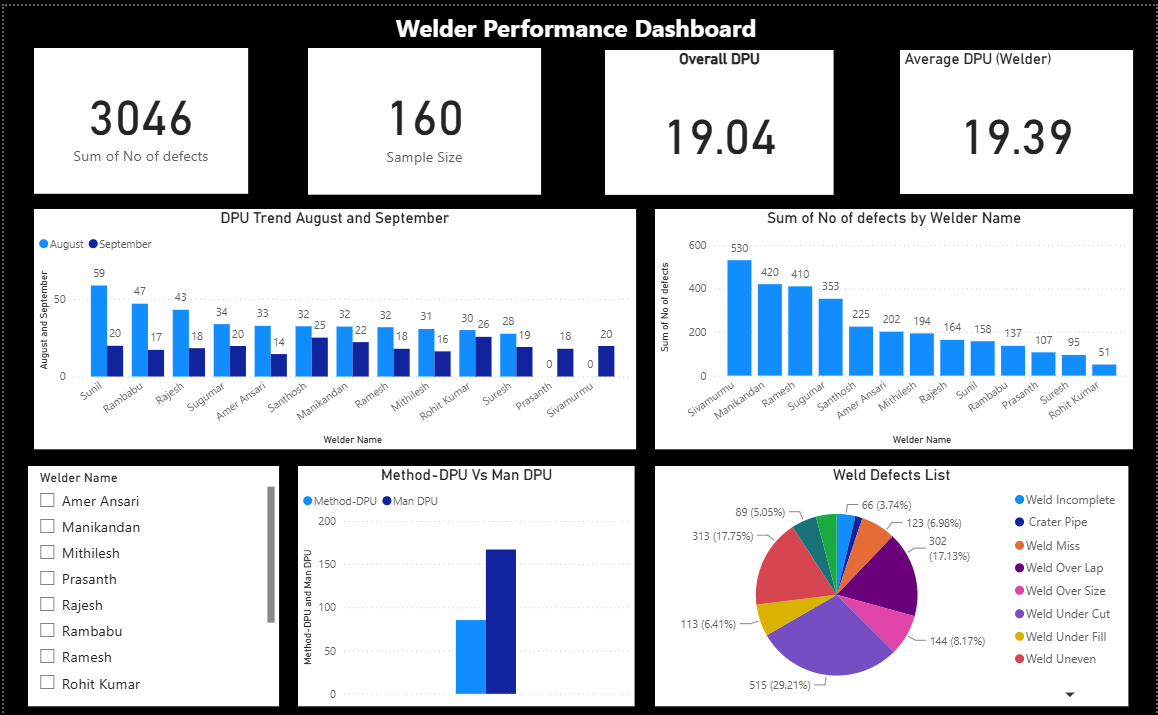

What the dashboard file says about the page in this screenshot:
{"tool":"powerbi","page":{"name":"Page 1","canvas":[1280,800],"ordinal":0},"visuals":[{"type":"textbox","box":[271.2,0,736.2,60],"z":0},{"type":"card","fields":{"Values":["Sum(September.No of defects)"]},"box":[33.3,46.7,237.8,162.2],"z":1000},{"type":"card","fields":{"Values":["Sum(September.No of bucket)"]},"box":[337.8,46.7,258.9,163.3],"z":2000},{"type":"card","title":"Overall DPU ","fields":{"Values":["September.Gross _DPU"]},"box":[667.8,48.9,254.4,161.1],"z":3000},{"type":"card","title":"Average DPU (Welder)","fields":{"Values":["Avg(September.Overall DPU)"]},"box":[995.6,48.9,258.9,160],"z":6000},{"type":"clusteredColumnChart","title":"DPU Trend August and September","fields":{"Category":["Analysis.Welder Name"],"Y":["Sum(Analysis.Overall DPU August)","Sum(Analysis.Overall DPU)"]},"box":[32.9,225.7,668.6,267.1],"z":9000},{"type":"clusteredColumnChart","fields":{"Category":["September.Welder Name"],"Y":["Sum(September.No of defects)"]},"box":[722.9,225.7,531.4,267.1],"z":10000},{"type":"slicer","fields":{"Values":["September.Welder Name"]},"box":[27.1,511.4,278.6,267.1],"z":11000},{"type":"pieChart","title":"Weld Defects List","fields":{"Y":["Sum(September.Weld Incomplete)","Sum(September.Crater Pipe)","Sum(September.Weld Miss)","Sum(September.Weld Over Lap)","Sum(September.Weld Over Size)","Sum(September.Weld Under Cut)","Sum(September.Weld Under Fill)","Sum(September.Weld Uneven)","Sum(September.Weld Under Size)","Sum(September.Lack of Fusion)"]},"box":[722.9,511.4,525.7,267.1],"z":12000},{"type":"lineClusteredColumnComboChart","title":"Method-DPU Vs Man DPU","fields":{"Y":["Sum(September.Method-DPU)","Sum(September.Man DPU)"]},"box":[327.1,511.4,374.3,267.1],"z":13000}]}

Visuals, with their boxes in screenshot pixels (x1, y1, x2, y2), scaled from the page's 1280x800 canvas onto the 1158x715 screenshot:
textbox: bbox(245, 0, 911, 54)
card - Sum(September.No of defects): bbox(30, 42, 245, 187)
card - Sum(September.No of bucket): bbox(306, 42, 540, 188)
"Overall DPU " card: bbox(604, 44, 834, 188)
"Average DPU (Welder)" card: bbox(901, 44, 1135, 187)
"DPU Trend August and September" clusteredColumnChart: bbox(30, 202, 635, 440)
clusteredColumnChart - September.Welder Name x Sum(September.No of defects): bbox(654, 202, 1135, 440)
slicer - September.Welder Name: bbox(25, 457, 277, 696)
"Weld Defects List" pieChart: bbox(654, 457, 1130, 696)
"Method-DPU Vs Man DPU" lineClusteredColumnComboChart: bbox(296, 457, 635, 696)
